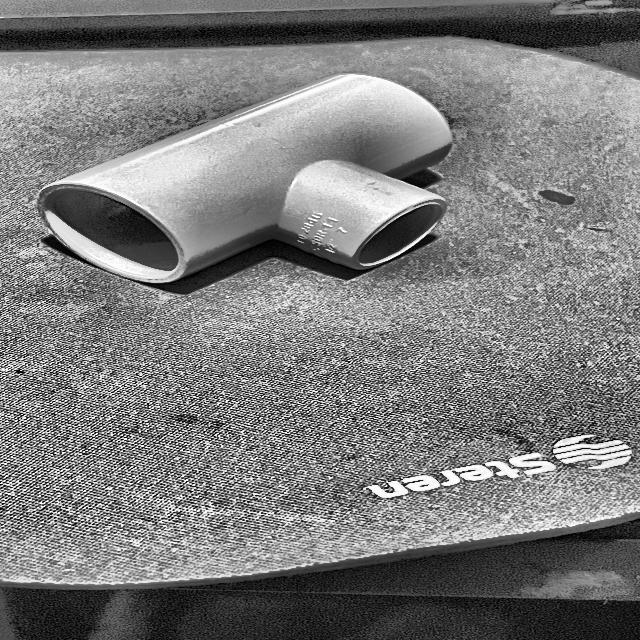EQUALTEE: (36, 74, 454, 291)
